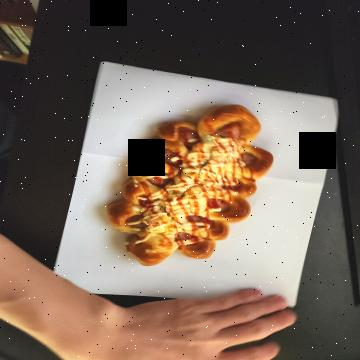pizza_bread: (115, 88, 273, 258)
